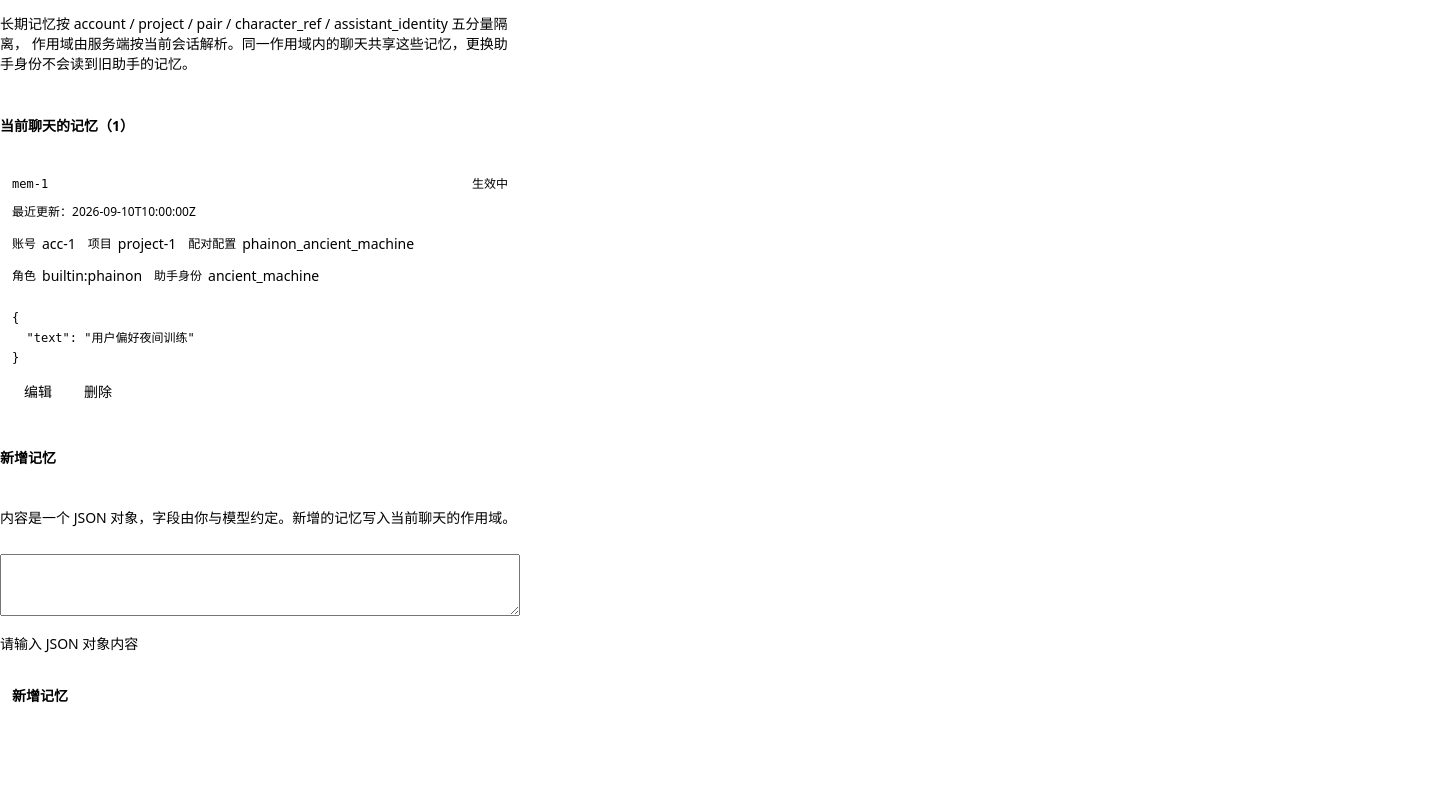
Test: MemoryPanel 长期记忆增删改 › 删除需二次确认，确认后发 memory.delete，重新读取后该条不再列出
Expected: the element with test id "memory-scope-mem-1" is shown, left=12, top=234, right=414, bottom=285
Click the button "删除".
click(98, 392)  # box left=72, top=376, right=124, bottom=408
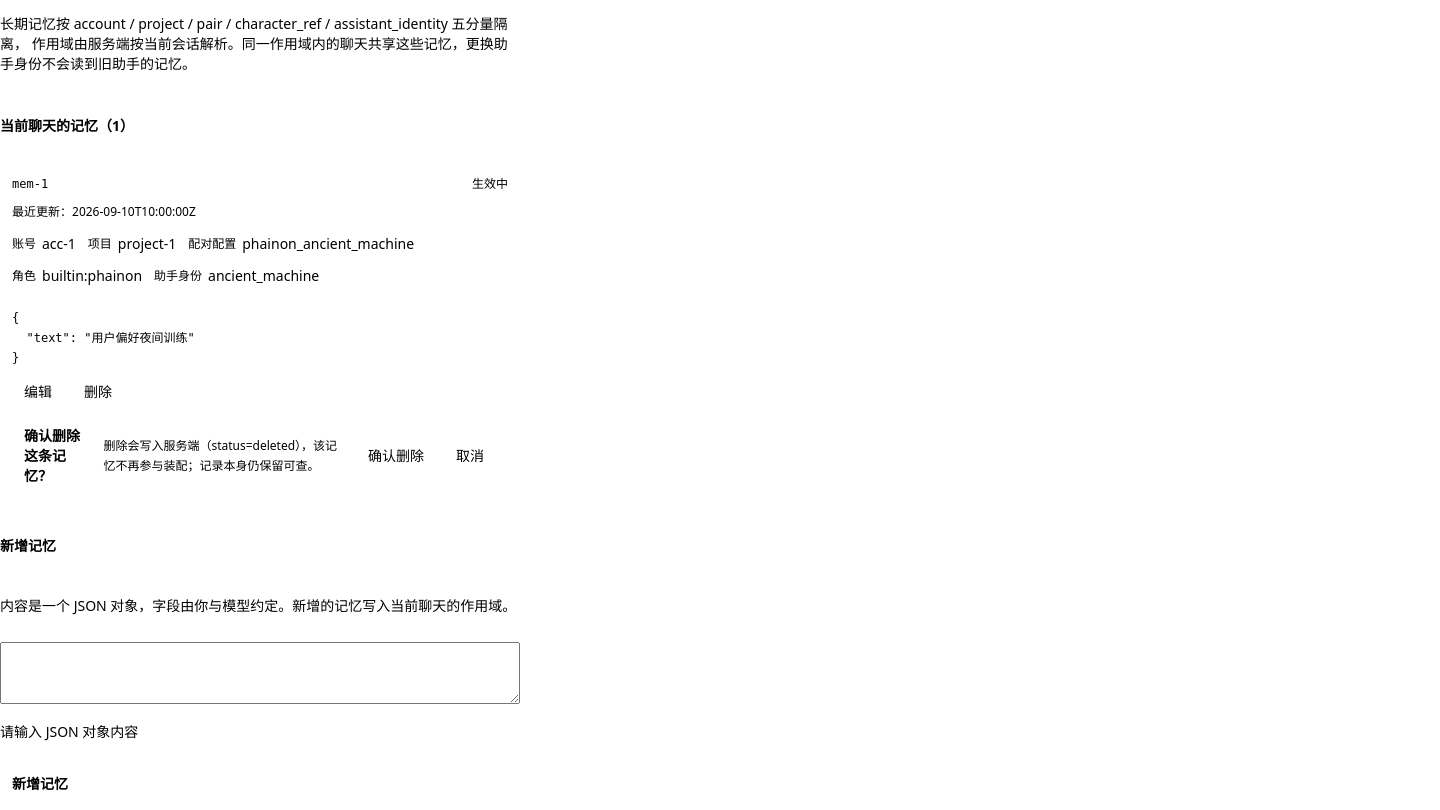
Now the dialog shows "确认删除这条记忆？", box left=24, top=426, right=80, bottom=485
Click the button "确认删除".
click(396, 456)  # box left=356, top=440, right=436, bottom=472
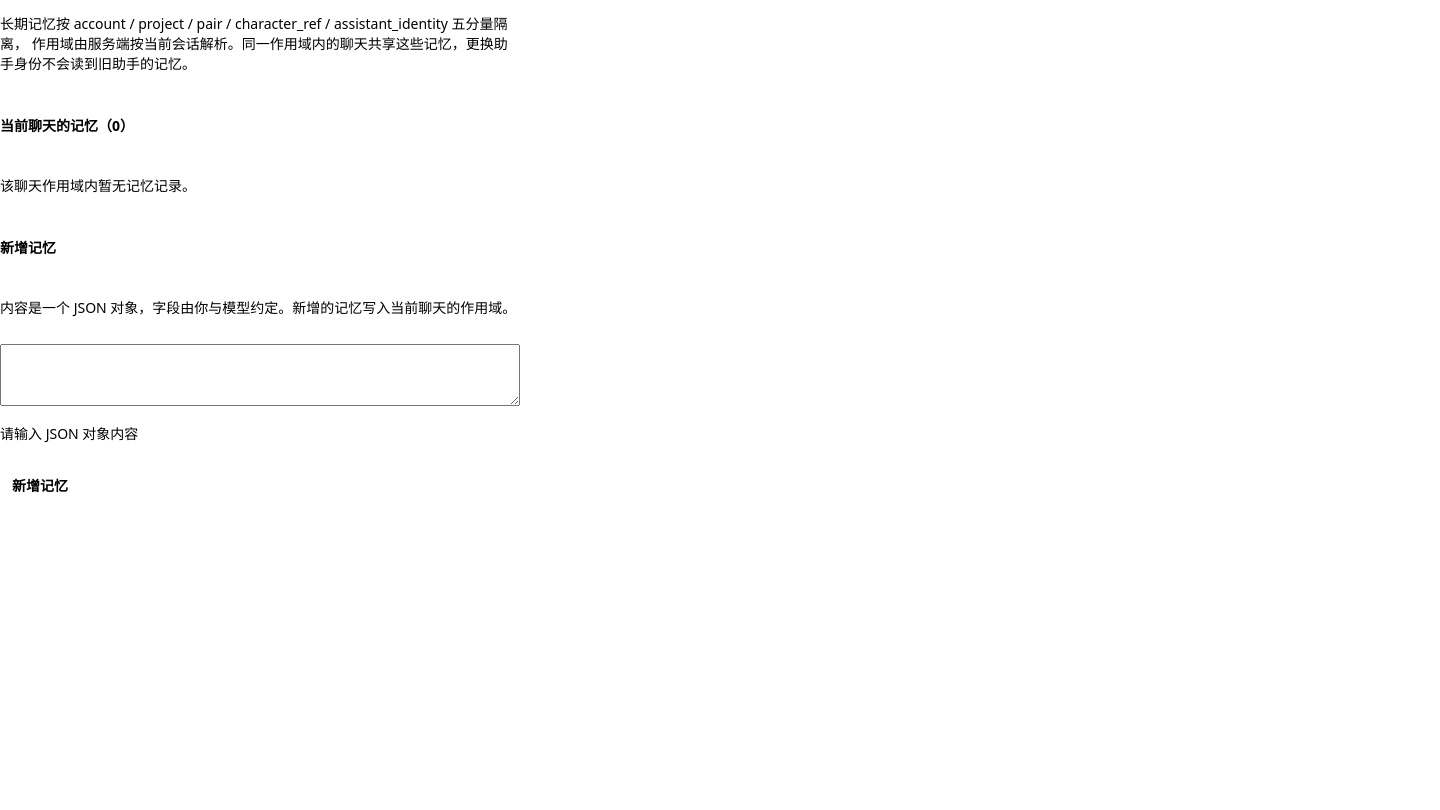
Now the text "该聊天作用域内暂无记忆记录。" is shown, box left=0, top=176, right=196, bottom=195
